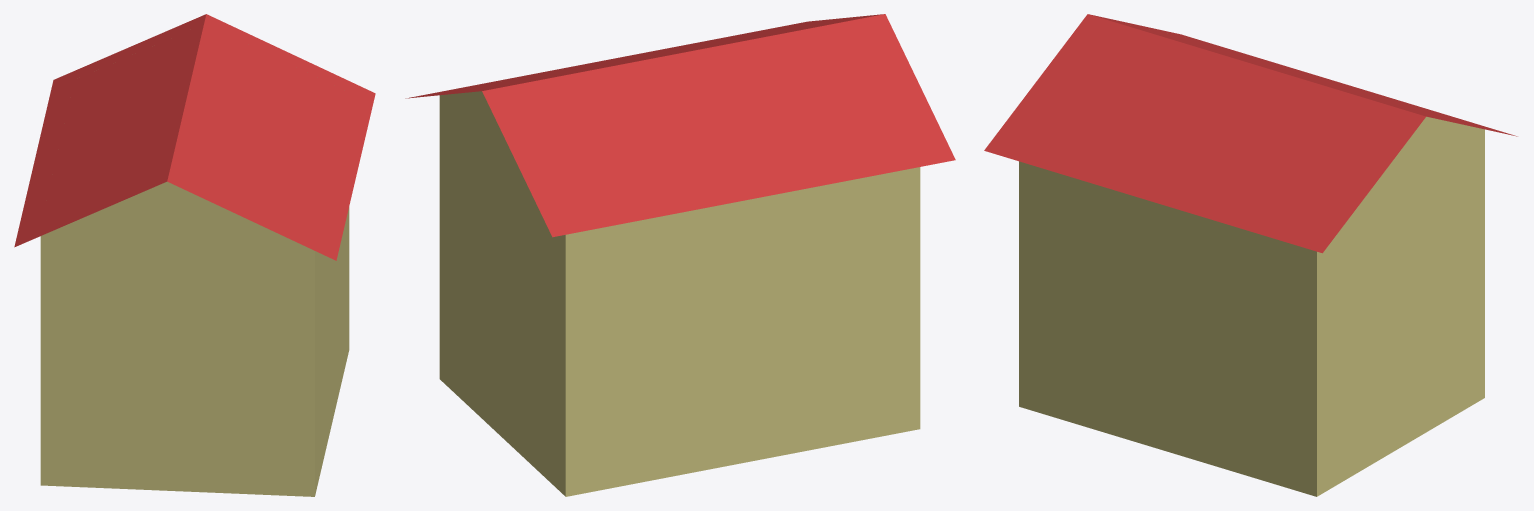
3 renders of one model, left to right at view 1: azimuth 30°, elevation 25°; view 2: azimuth 150°, elevation 25°; view 3: azimuth 270°, elevation 25°, orthographic. The views are drawn at different scales.
Bounding box in the file's own units: 10.29 × 10.65 × 7.32.
